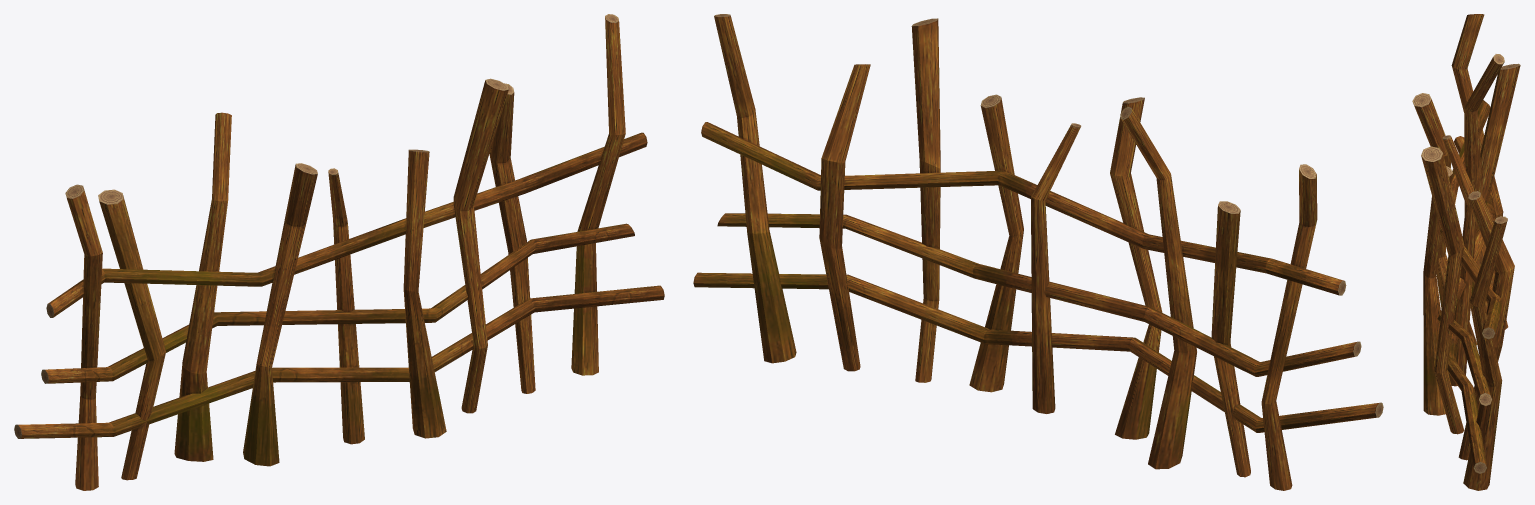
The model's file is WoodenFenceShort.fbx.
The picture shows the model from 3 angles, left to right: view 1: azimuth 30°, elevation 25°; view 2: azimuth 150°, elevation 25°; view 3: azimuth 270°, elevation 25°; orthographic projection. The views are drawn at different scales.
Parts seen in each view (by area): view 1: WoodenFenceShort; view 2: WoodenFenceShort; view 3: WoodenFenceShort.
Boxes of the visible parts, x1,y1,x2,y2 form: WoodenFenceShort: (14, 14, 664, 490); WoodenFenceShort: (693, 14, 1383, 490); WoodenFenceShort: (1412, 14, 1520, 490).
Bounding box in the file's own units: 867 × 431 × 147.
